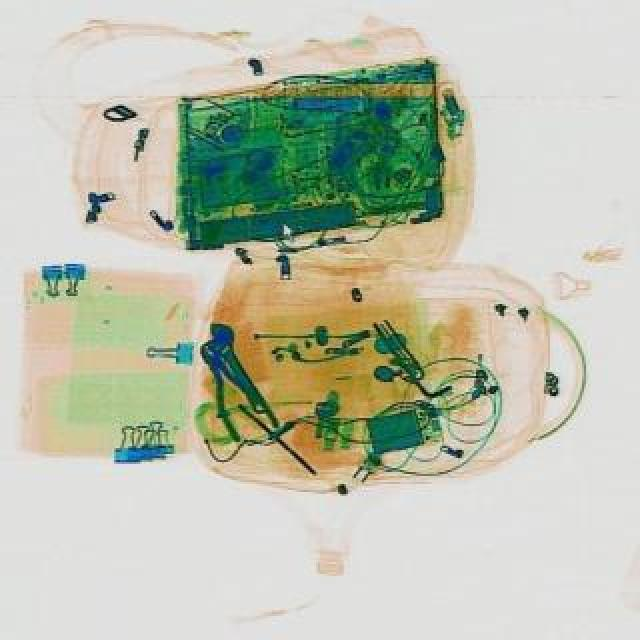scissors: (194, 314, 274, 418)
wrench: (182, 334, 278, 446)
